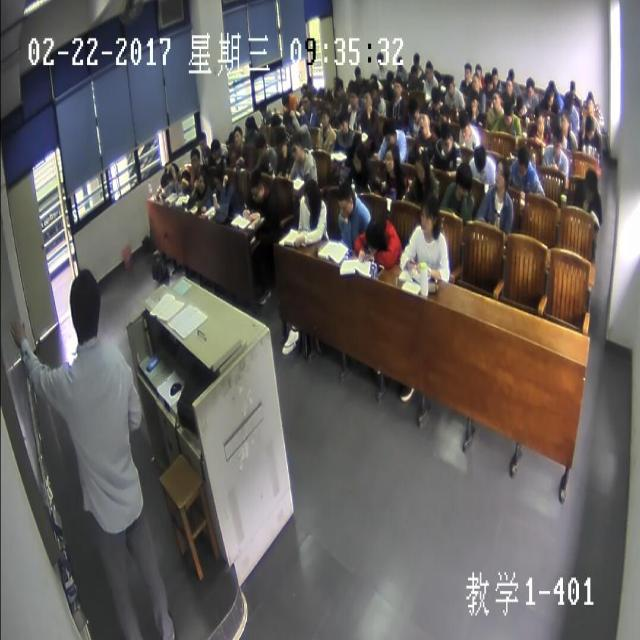person: (68, 268, 102, 342), (419, 193, 440, 235), (365, 215, 383, 258), (335, 180, 354, 219), (301, 177, 319, 217), (492, 153, 509, 192), (456, 160, 472, 198), (249, 167, 265, 201), (457, 104, 472, 140), (582, 165, 597, 201), (416, 147, 430, 184), (384, 140, 400, 170), (438, 124, 453, 156), (472, 140, 487, 172), (516, 142, 529, 176), (289, 132, 303, 162), (417, 106, 431, 136), (352, 144, 365, 174), (274, 126, 288, 152), (550, 124, 562, 154), (195, 165, 208, 192), (382, 120, 395, 146), (407, 95, 420, 121), (429, 84, 442, 110), (560, 106, 571, 136), (584, 111, 596, 138), (254, 132, 267, 156), (502, 99, 514, 125), (533, 104, 544, 132), (188, 145, 201, 168), (281, 109, 294, 132), (336, 110, 349, 133), (214, 166, 226, 190), (167, 159, 179, 182), (319, 104, 331, 127), (232, 122, 243, 147), (243, 114, 254, 136), (159, 166, 169, 190), (362, 86, 372, 110), (439, 104, 451, 124), (197, 130, 208, 151), (180, 166, 190, 189), (349, 84, 359, 107), (393, 77, 403, 100), (424, 57, 434, 80), (470, 70, 480, 93), (462, 60, 472, 83), (210, 137, 220, 159), (516, 93, 526, 115), (525, 74, 535, 96), (334, 76, 344, 96), (385, 67, 395, 87), (503, 74, 513, 94), (586, 93, 596, 113), (445, 74, 454, 96), (469, 90, 478, 112), (489, 63, 498, 85), (491, 87, 500, 109), (546, 84, 554, 108), (226, 128, 236, 147), (271, 110, 281, 128), (301, 92, 310, 112), (370, 79, 379, 99), (375, 48, 384, 68), (412, 50, 421, 70), (484, 70, 493, 90), (564, 89, 572, 111), (280, 89, 289, 108), (473, 61, 482, 80), (567, 77, 576, 96), (409, 61, 417, 81), (259, 98, 267, 116), (354, 64, 362, 80), (507, 64, 515, 80), (369, 70, 377, 85), (301, 80, 308, 96), (396, 54, 403, 70), (306, 74, 314, 86)
